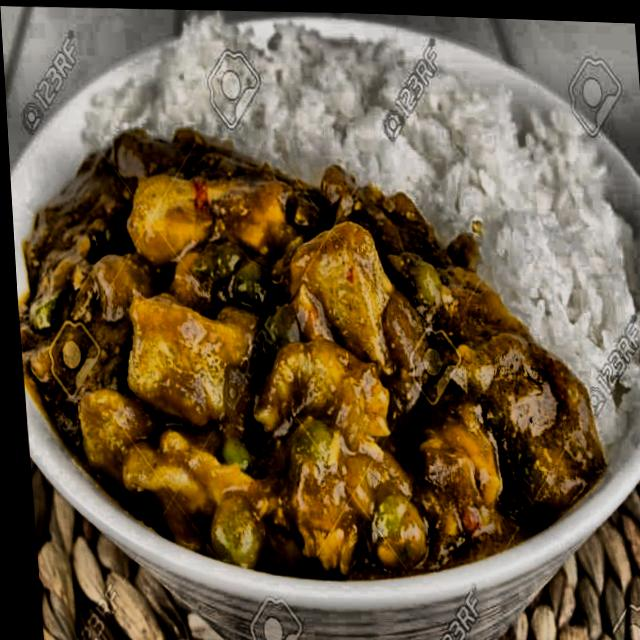Food: (5, 118, 604, 589), (199, 7, 579, 209)
